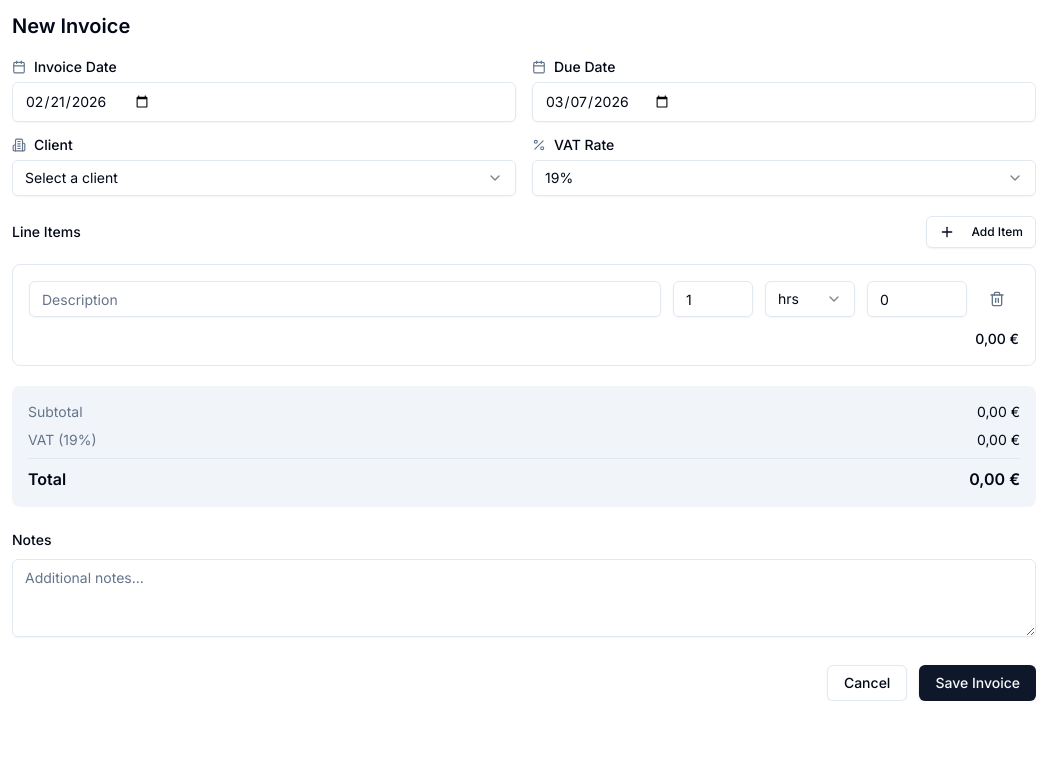
Test: InvoiceForm › line items › allows adding additional line items
Click the button "Add Item". click: [981, 232]
box: [926,216,1036,248]
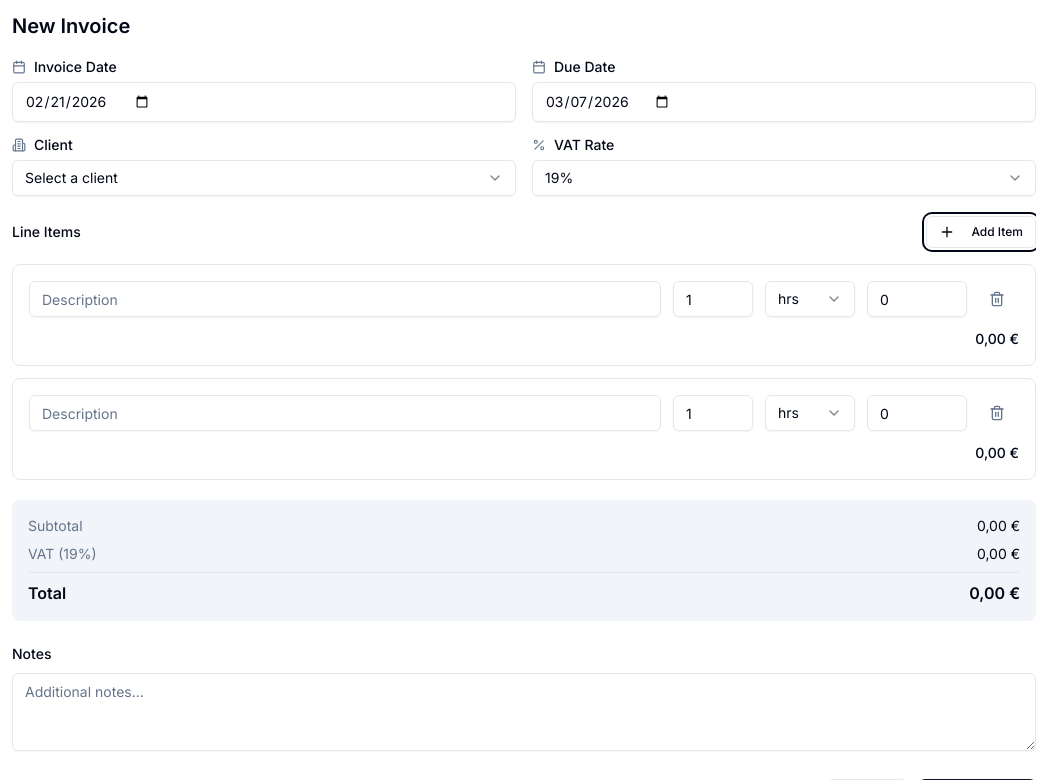
Expected: the number of fields with placeholder "description" is 4
